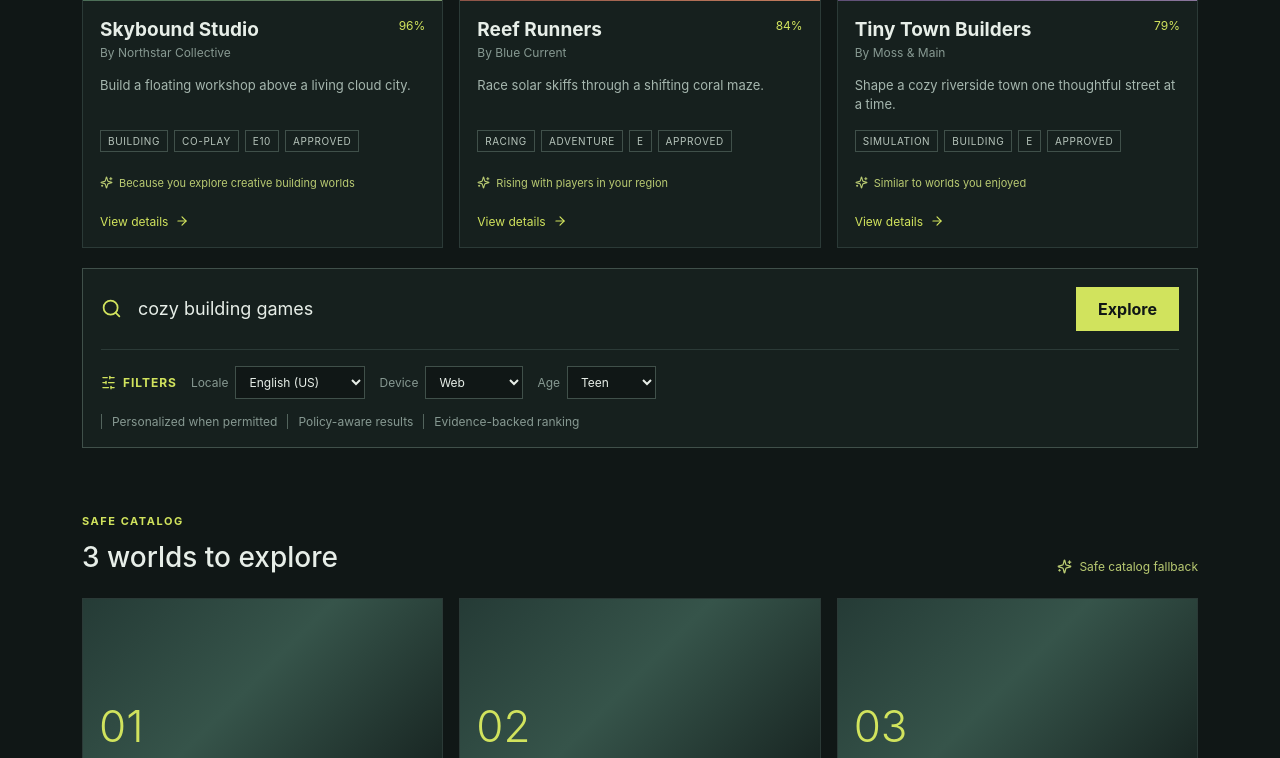
Test case: discovery search experience › submits natural queries with typed filters and renders results
The width and height of the screenshot is (1280, 758).
(page scrolled)
Replace the text in the field named "Search experiences" with "ocean builders" at (599, 309), box [136,297,1062,320]
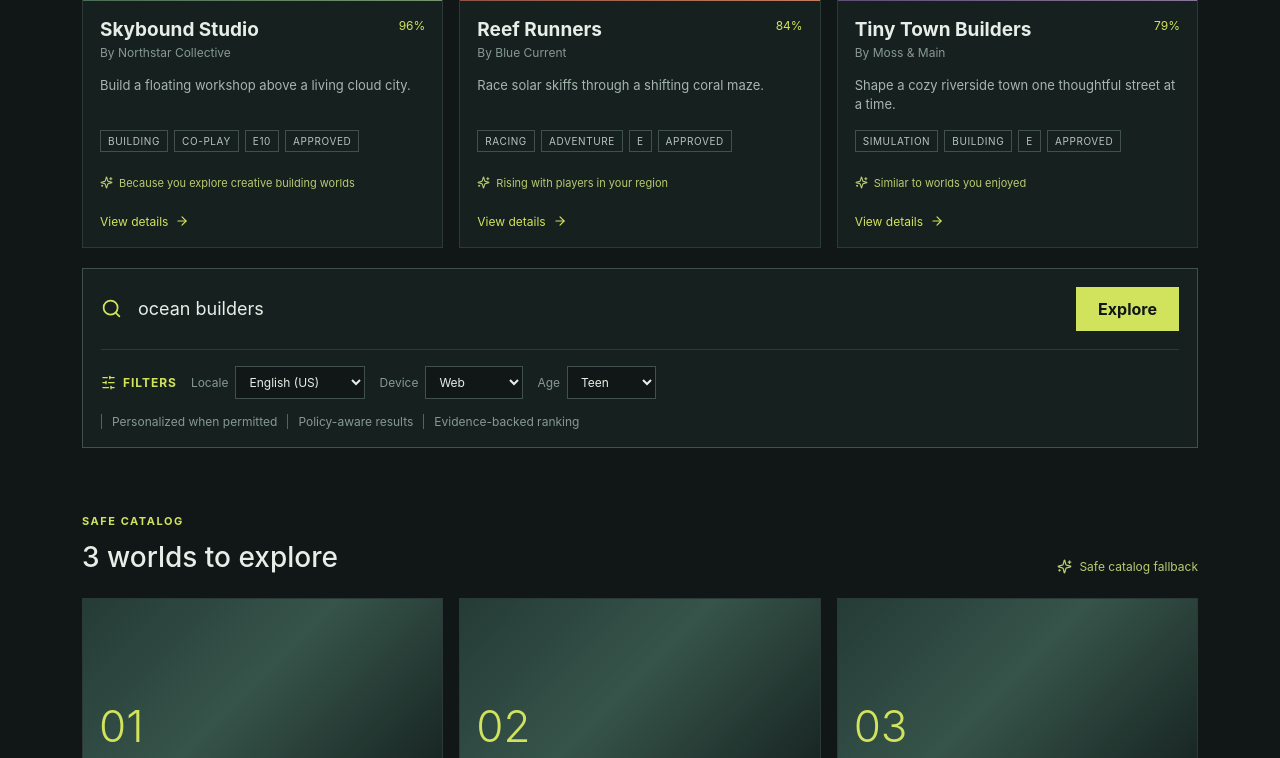
Select "Spanish" in the dropdown labelled "Locale" at (300, 382), box [236,366,366,399]
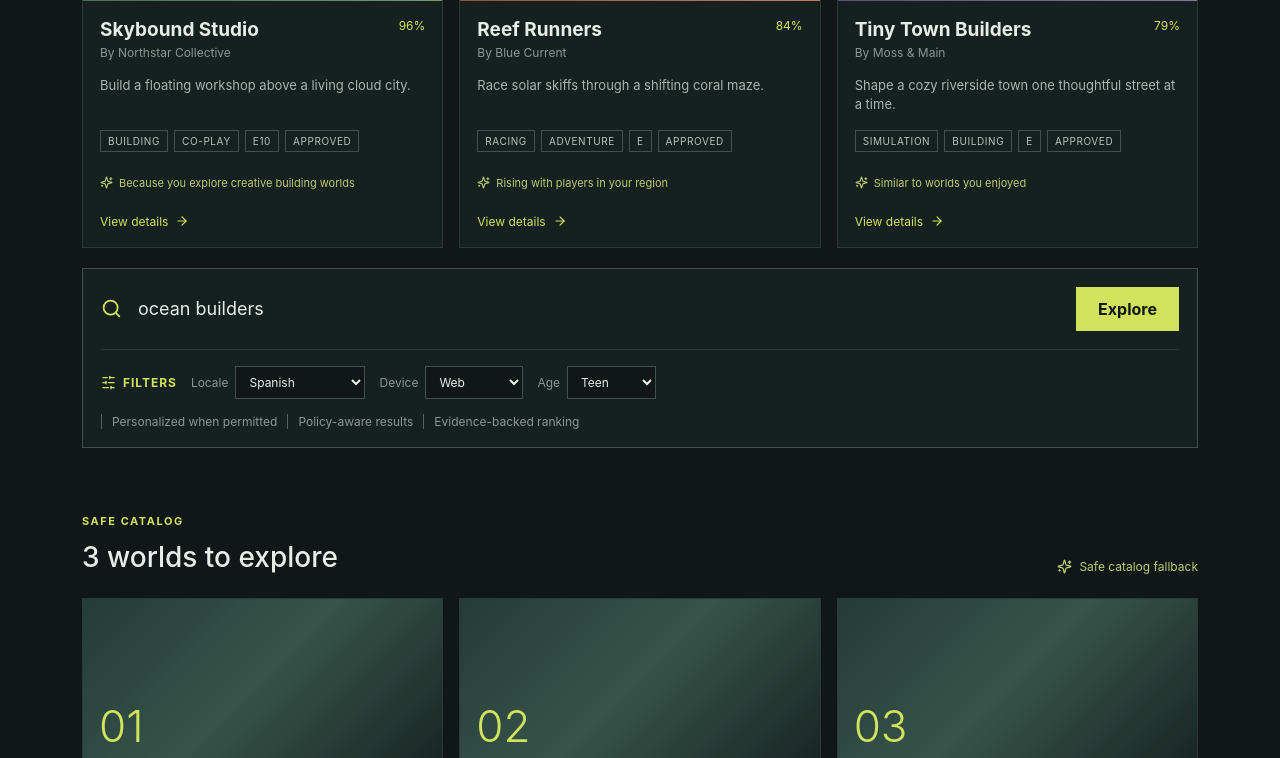
Press Enter in the field named "Search experiences", box [136,297,1062,320]
(page scrolled)
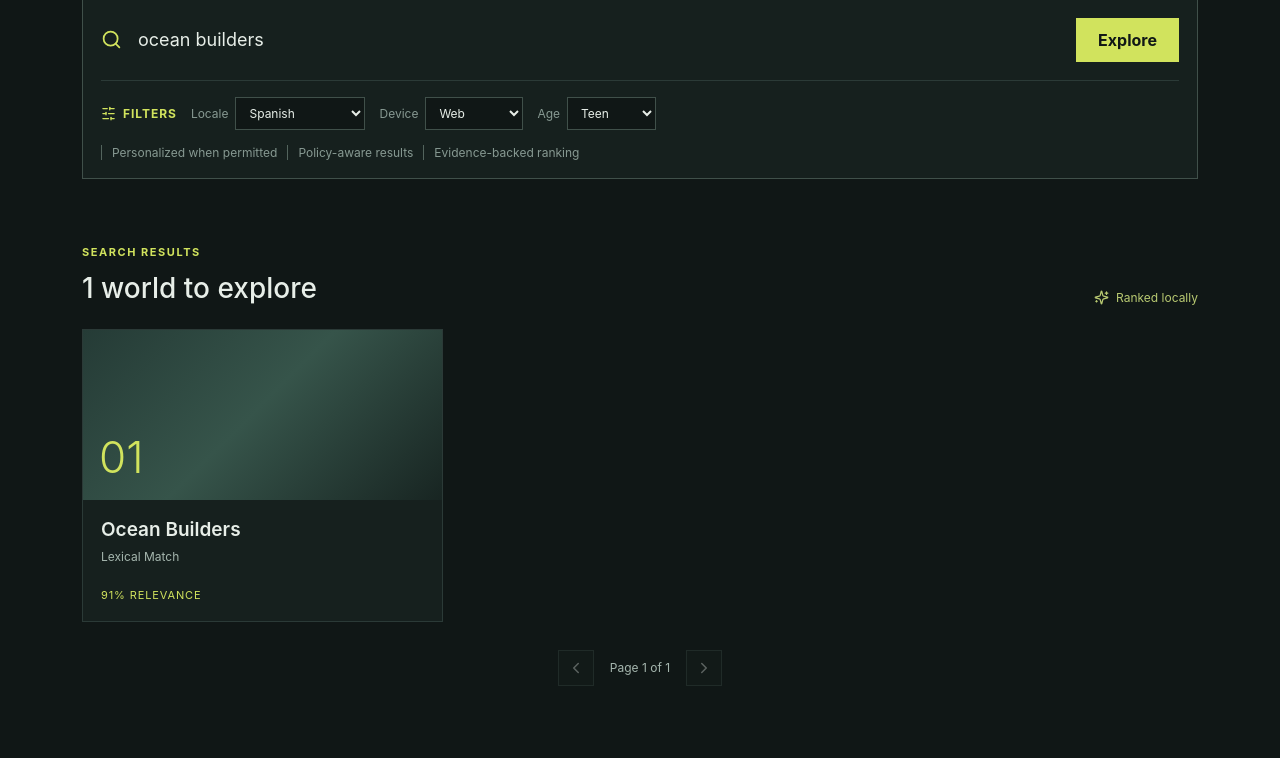
Check: the heading "Ocean Builders" is shown, box [101,518,241,541]
